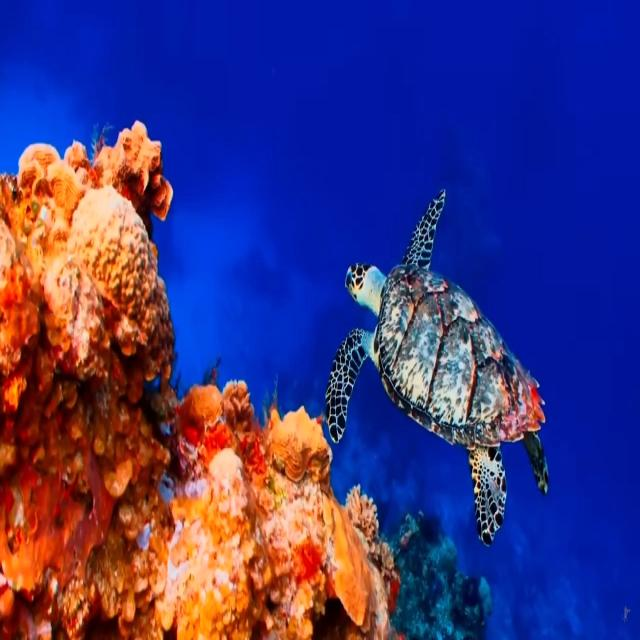Sea turtle: (324, 186, 552, 546)
